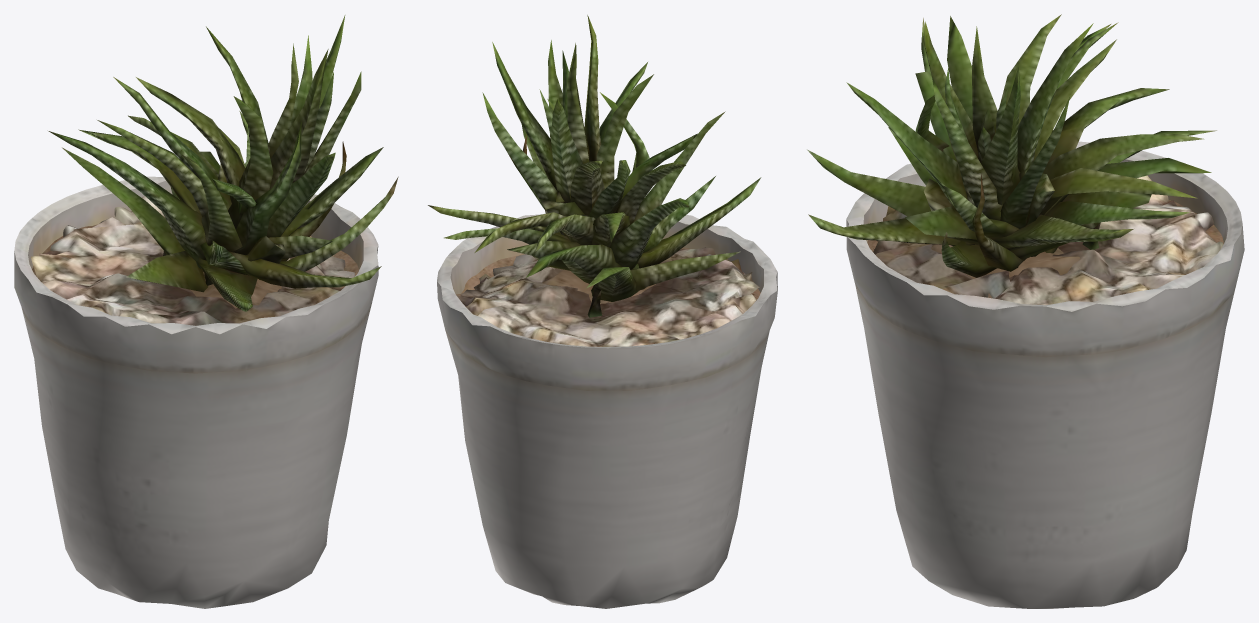
The model's file is plant.glb.
3 views of the same model, side by side, from view 1: azimuth 30°, elevation 25°; view 2: azimuth 150°, elevation 25°; view 3: azimuth 270°, elevation 25° (orthographic). The views are drawn at different scales.
Parts seen in each view (by area): view 1: plant; view 2: plant; view 3: plant.
Part boxes in pixels (x1,y1,x2,y2): plant: [14, 15, 398, 608]; plant: [428, 15, 777, 608]; plant: [807, 14, 1244, 608].
Bounding box in the file's own units: 0.1666 × 0.2677 × 0.1832.
Materials: 1 (1 with a texture image).
